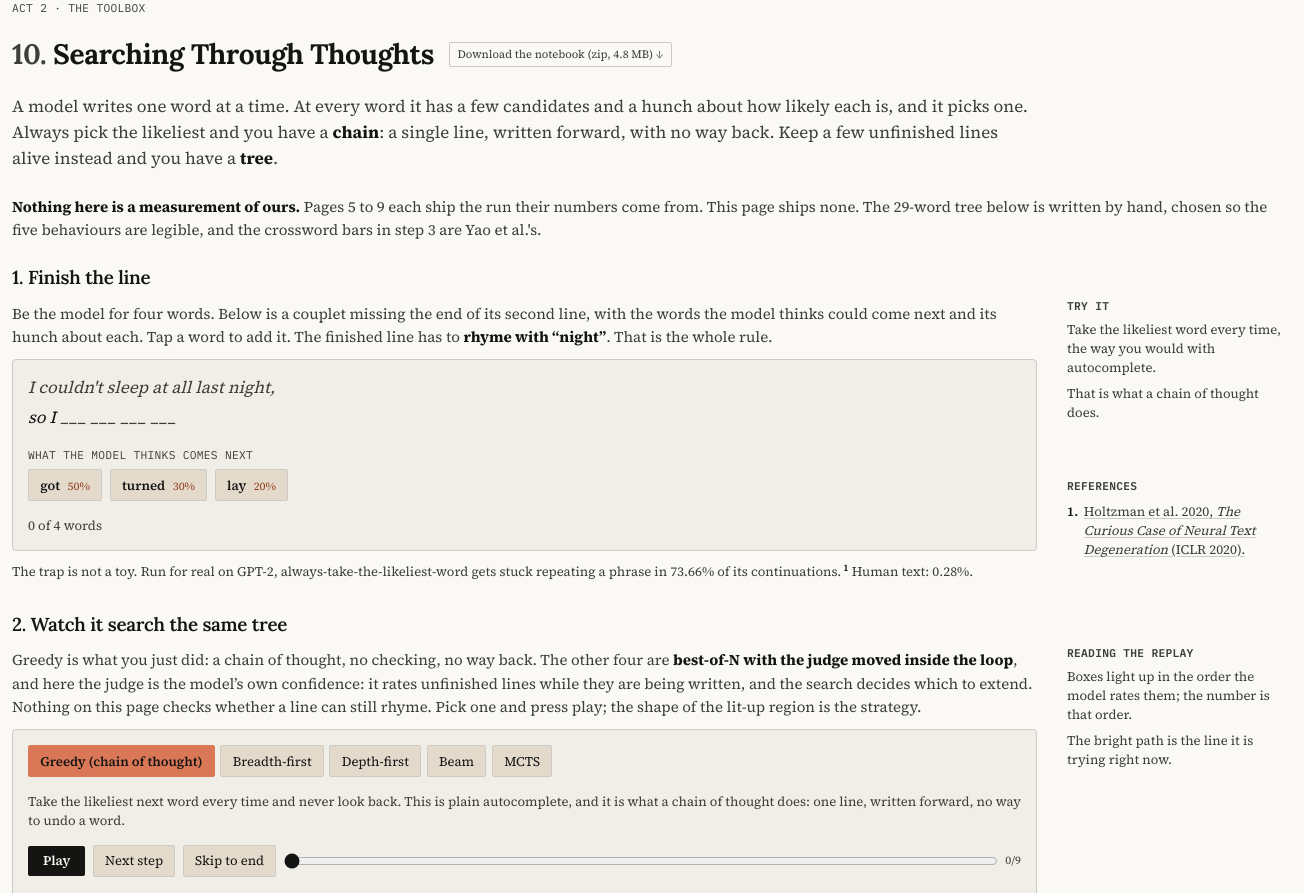
Test: Page 10 — step 2, the replay › every searcher lands on the same rhyme, cheaper or dearer
Click the button "Breadth-first": {"x": 272, "y": 761} 220,745 -> 324,777
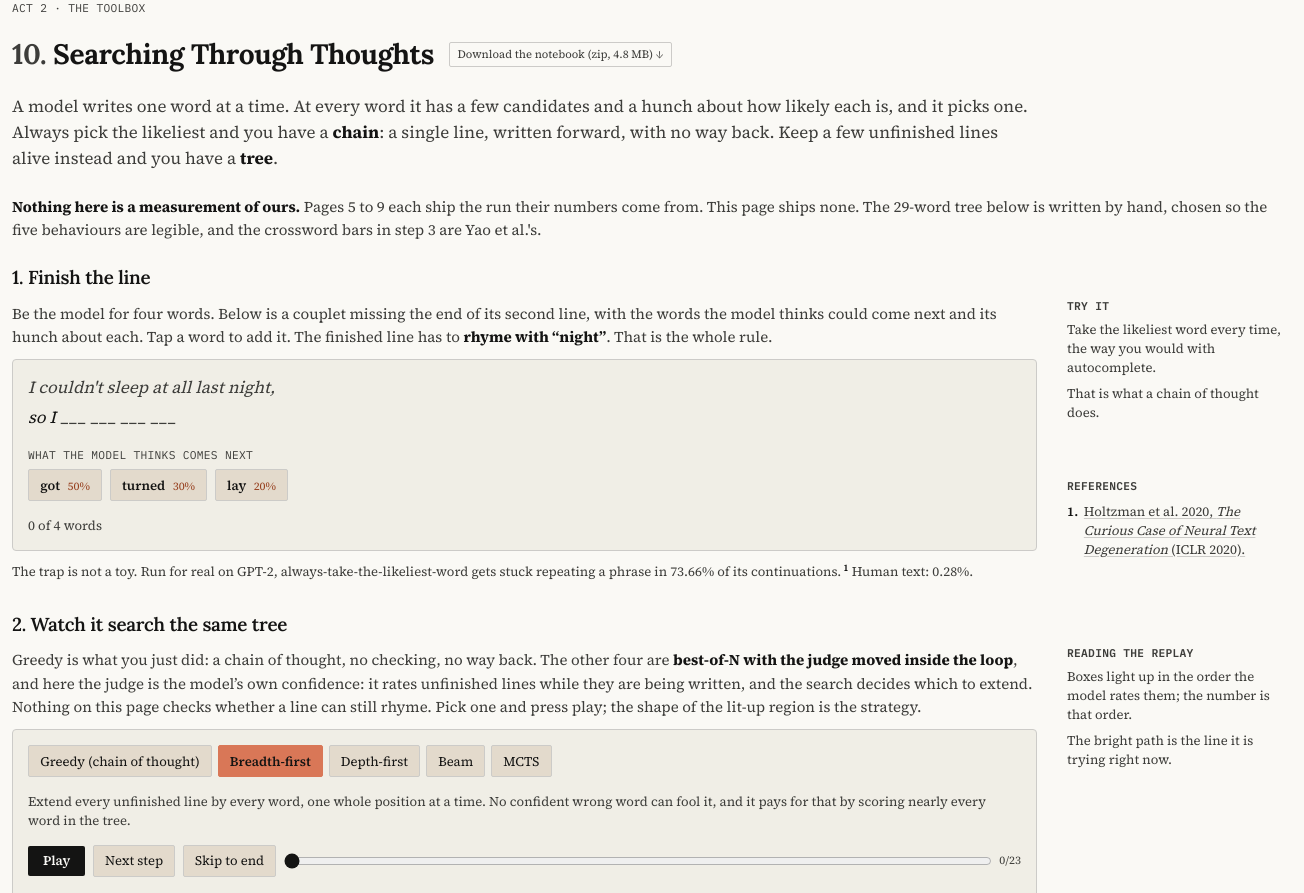
Click the button "Skip to end": {"x": 230, "y": 861} 183,845 -> 276,877
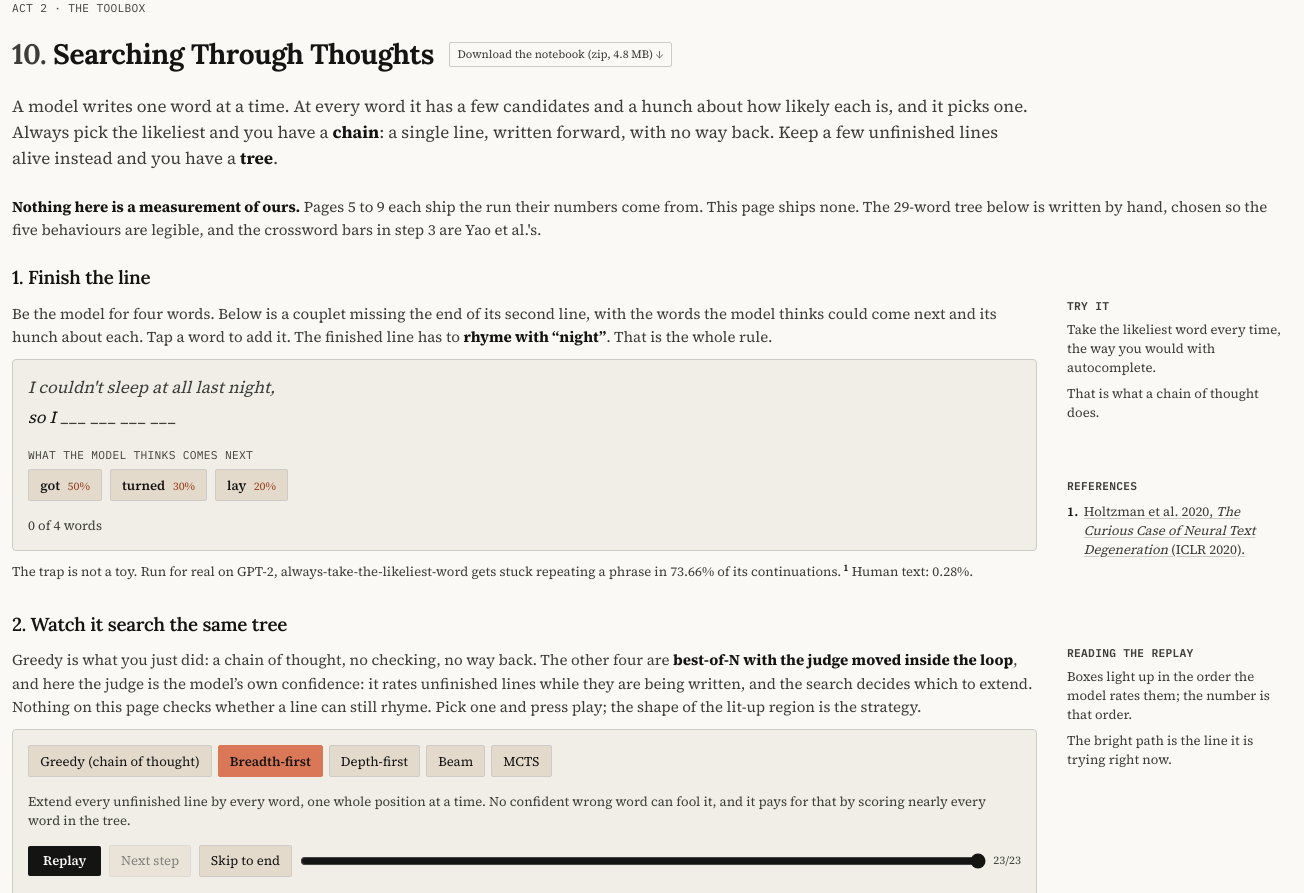
Click the button "Depth-first": {"x": 374, "y": 761} 329,745 -> 420,777
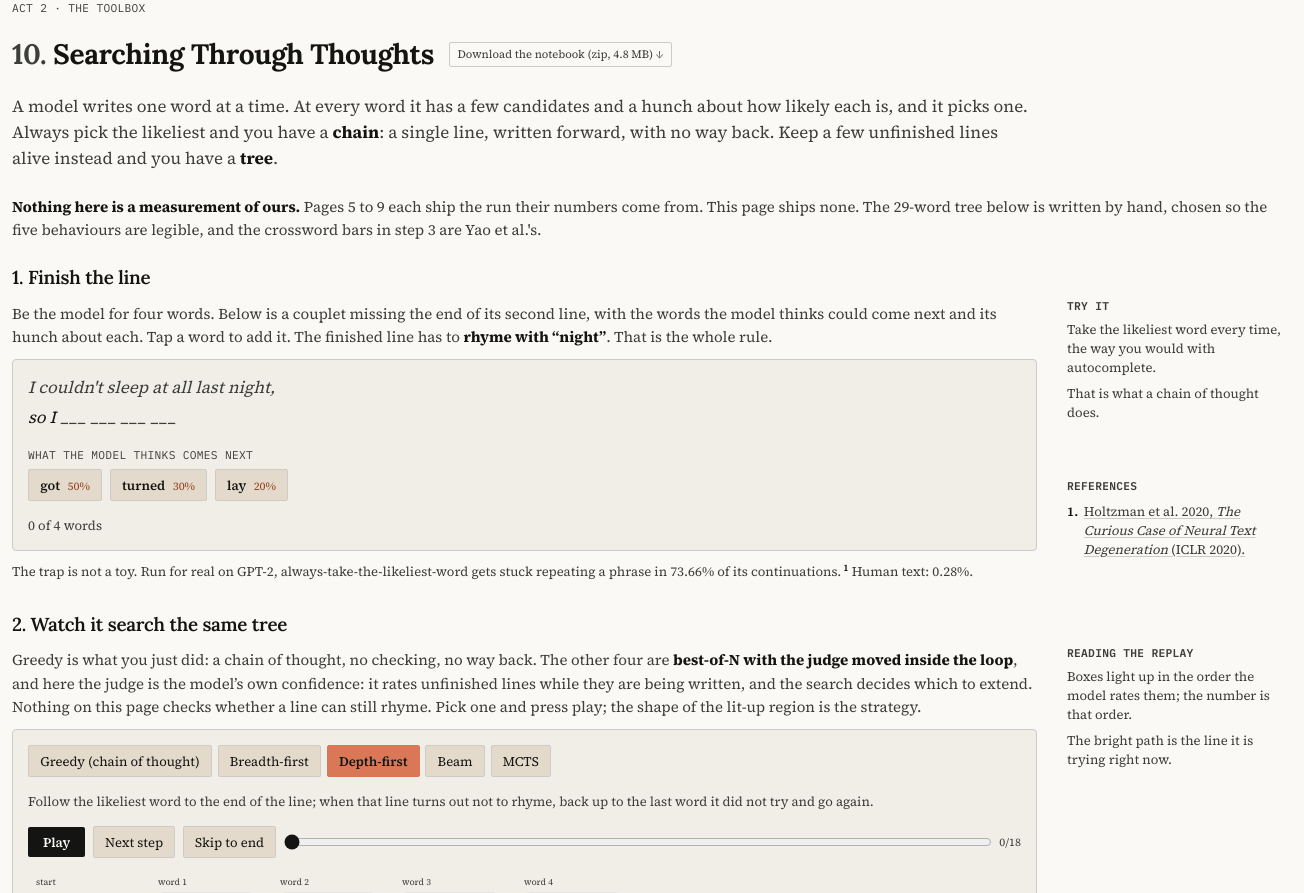
Click the button "Skip to end": {"x": 230, "y": 842} 183,826 -> 276,858
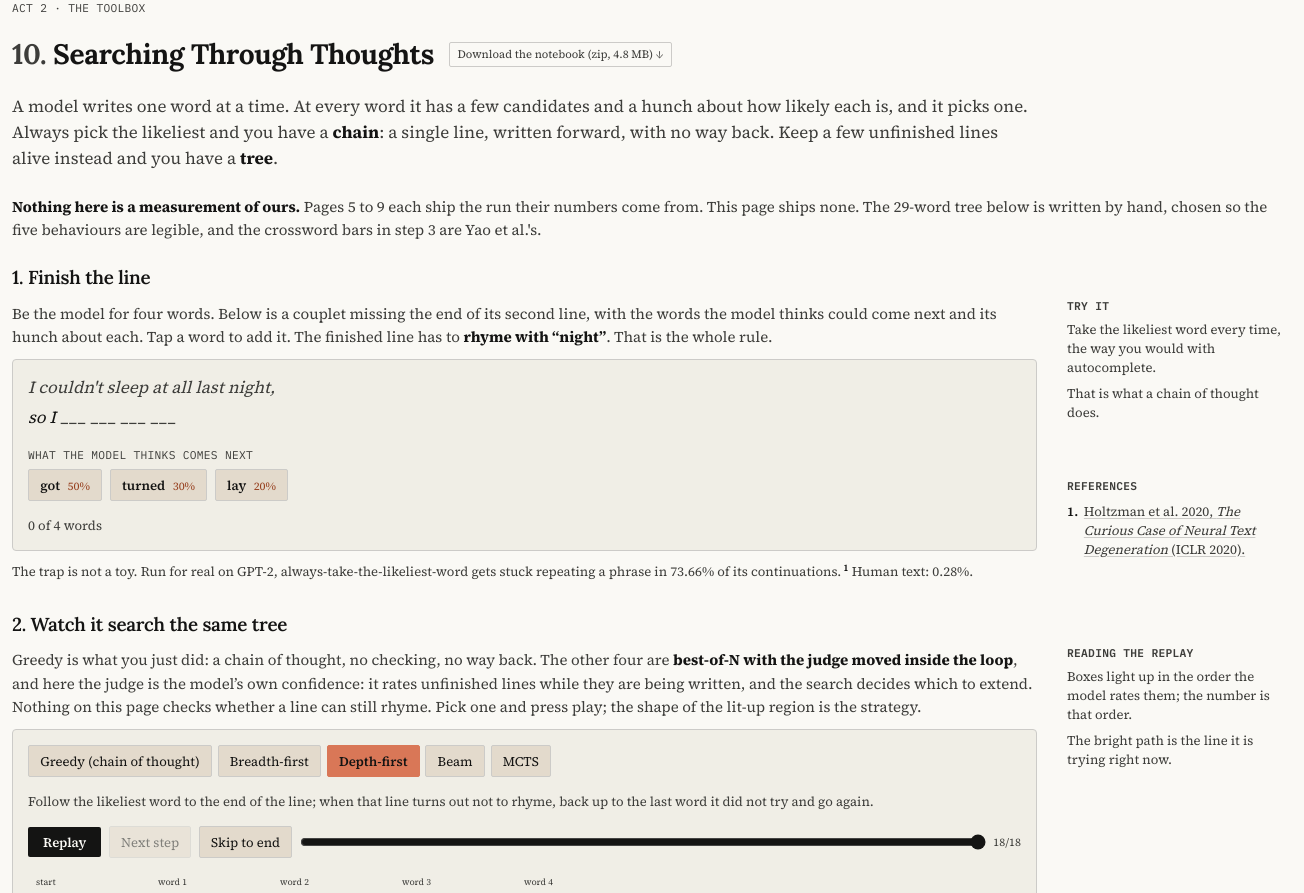
Click the button "MCTS": {"x": 521, "y": 761} 490,745 -> 551,777
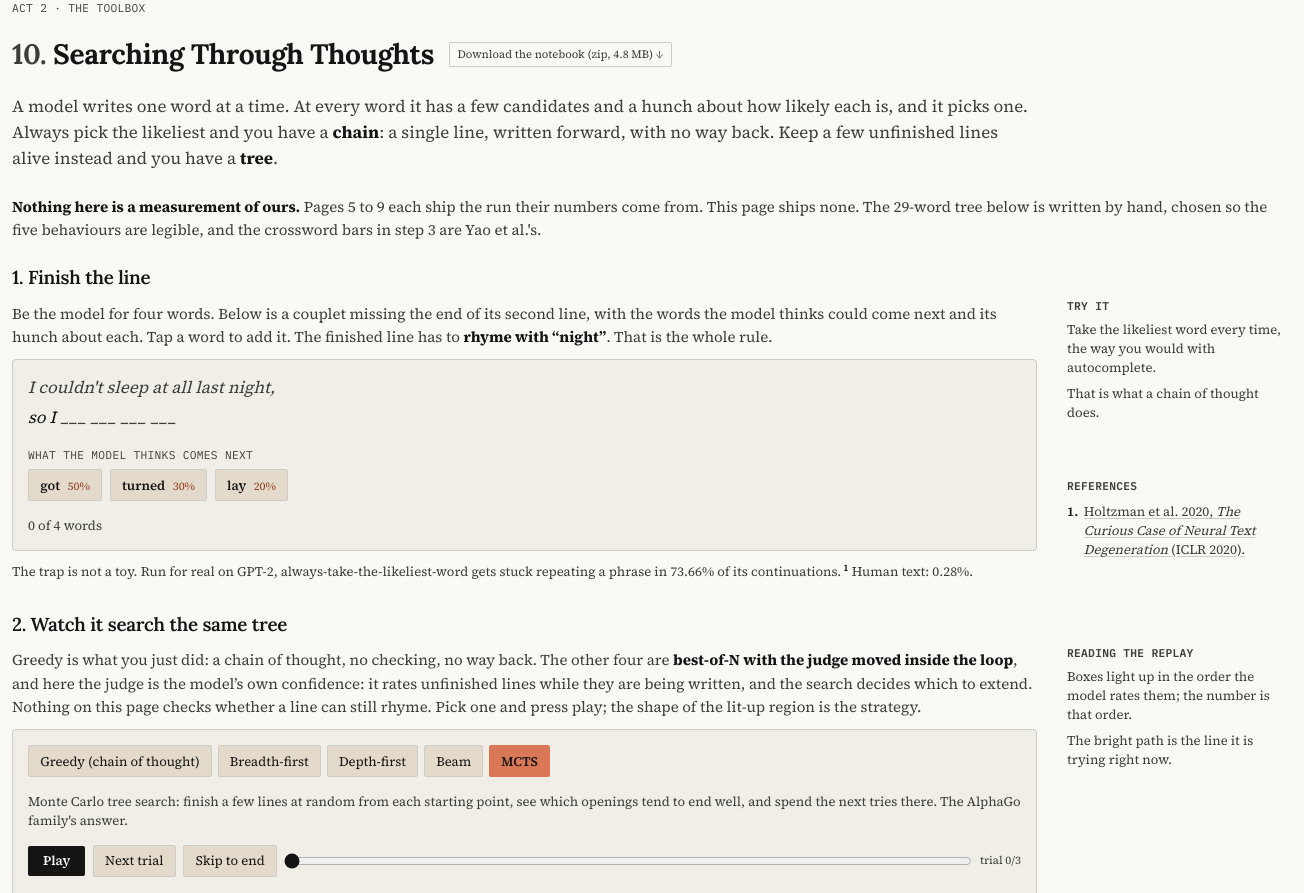
Click the button "Skip to end": {"x": 230, "y": 861} 183,845 -> 277,877
(page scrolled)
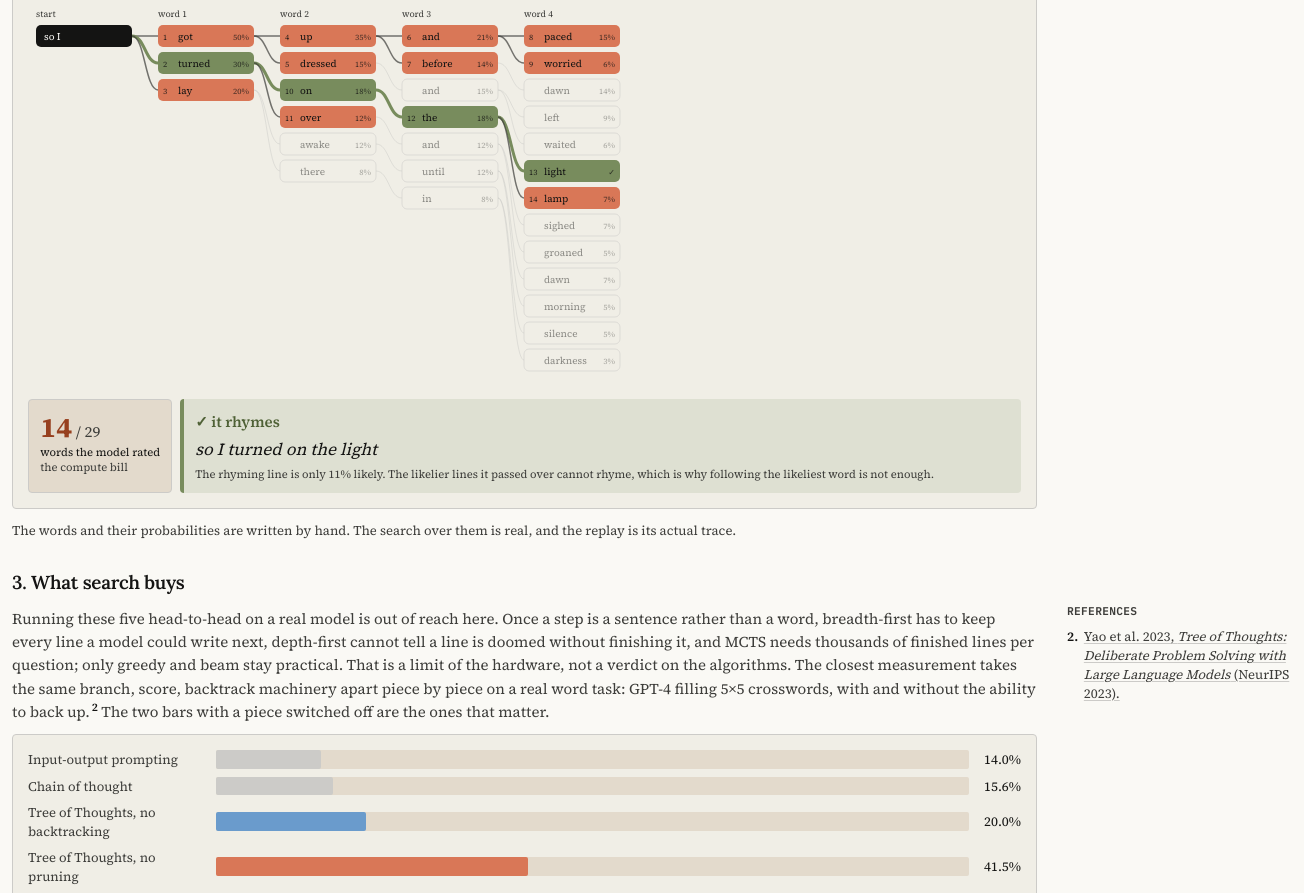
Now the text "✓ it rhymes" is shown, box 195,411 -> 280,432
Now the text "so I turned on the light" is shown, box 195,438 -> 377,461
